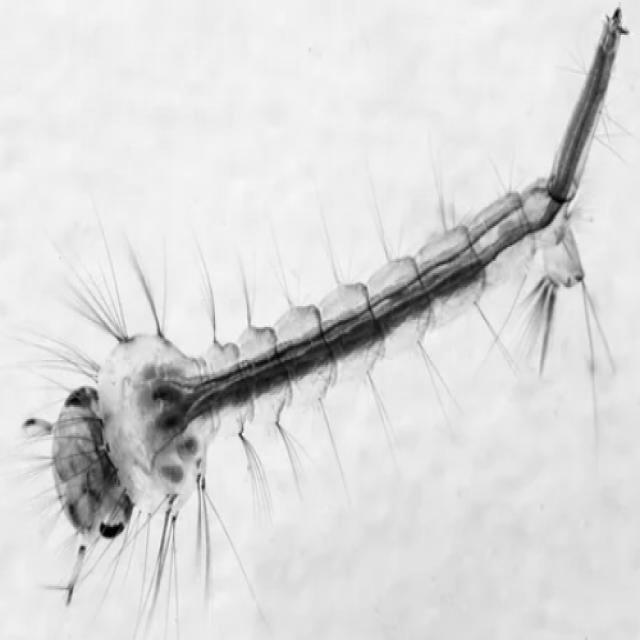larvas: (57, 20, 620, 528)
